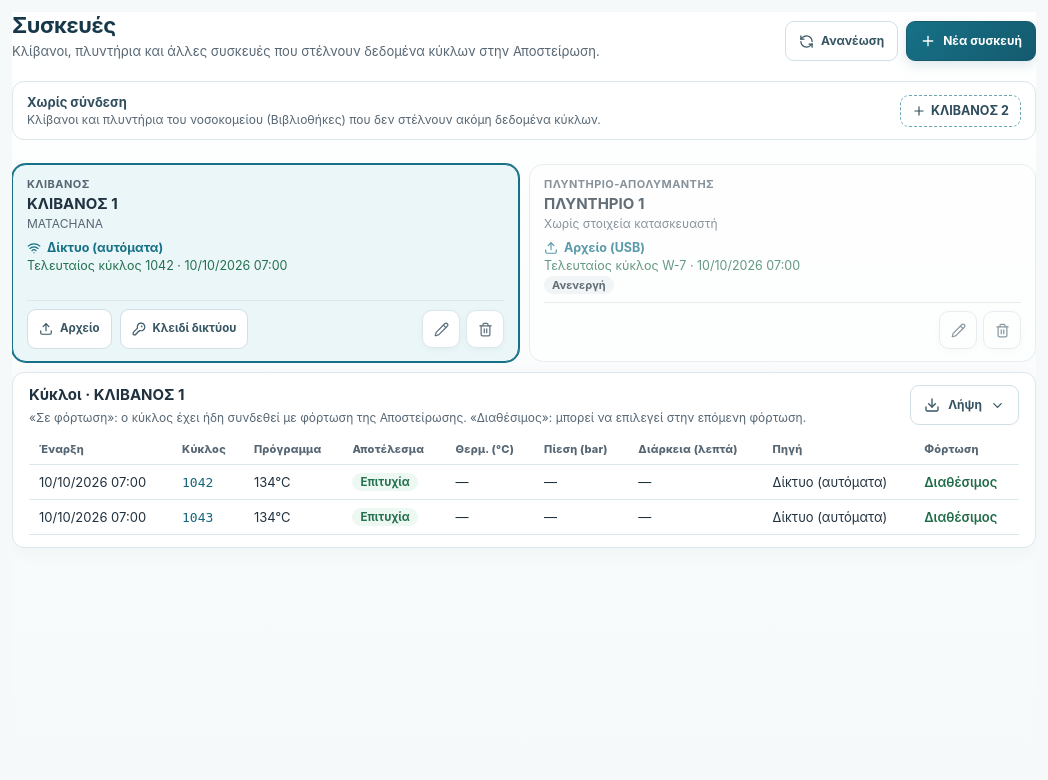
Test case: Connected devices › shows the cycles of the device picked, and only those
This screenshot has width=1048, height=780.
Expected: the text "1042" is shown, top-left (172, 465), bottom-right (244, 500)
Click the text "ΠΛΥΝΤΗΡΙΟ 1".
click(594, 204)  # box top-left (544, 194), bottom-right (644, 213)
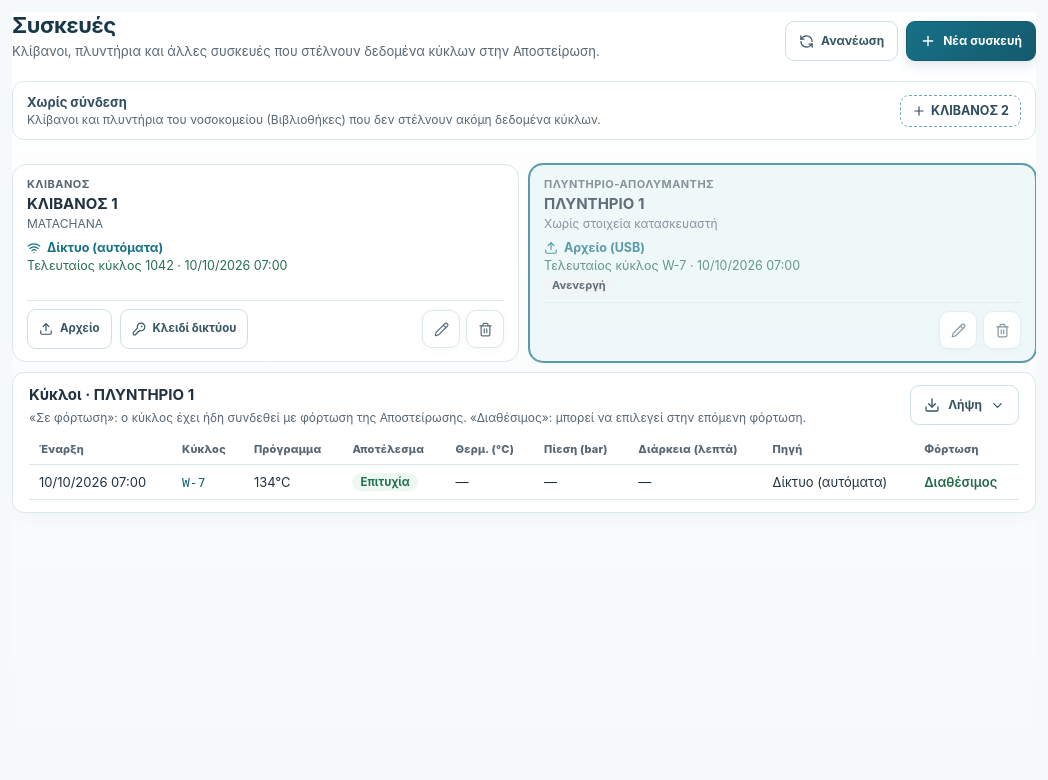
Now the text "W-7" is shown, box top-left (172, 465), bottom-right (244, 500)
